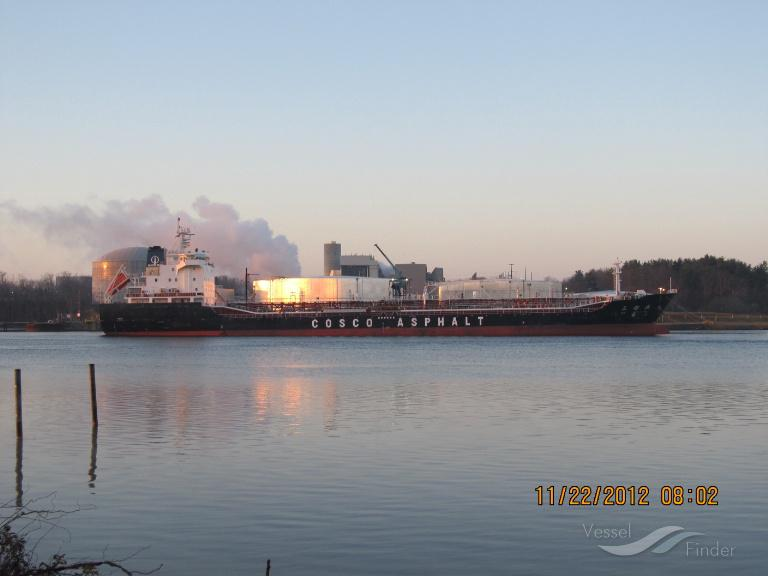OCR: (299, 314, 491, 334)
